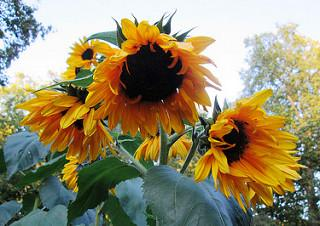sunflower: (86, 18, 216, 136), (209, 88, 301, 206), (16, 88, 117, 165), (67, 35, 99, 68)
